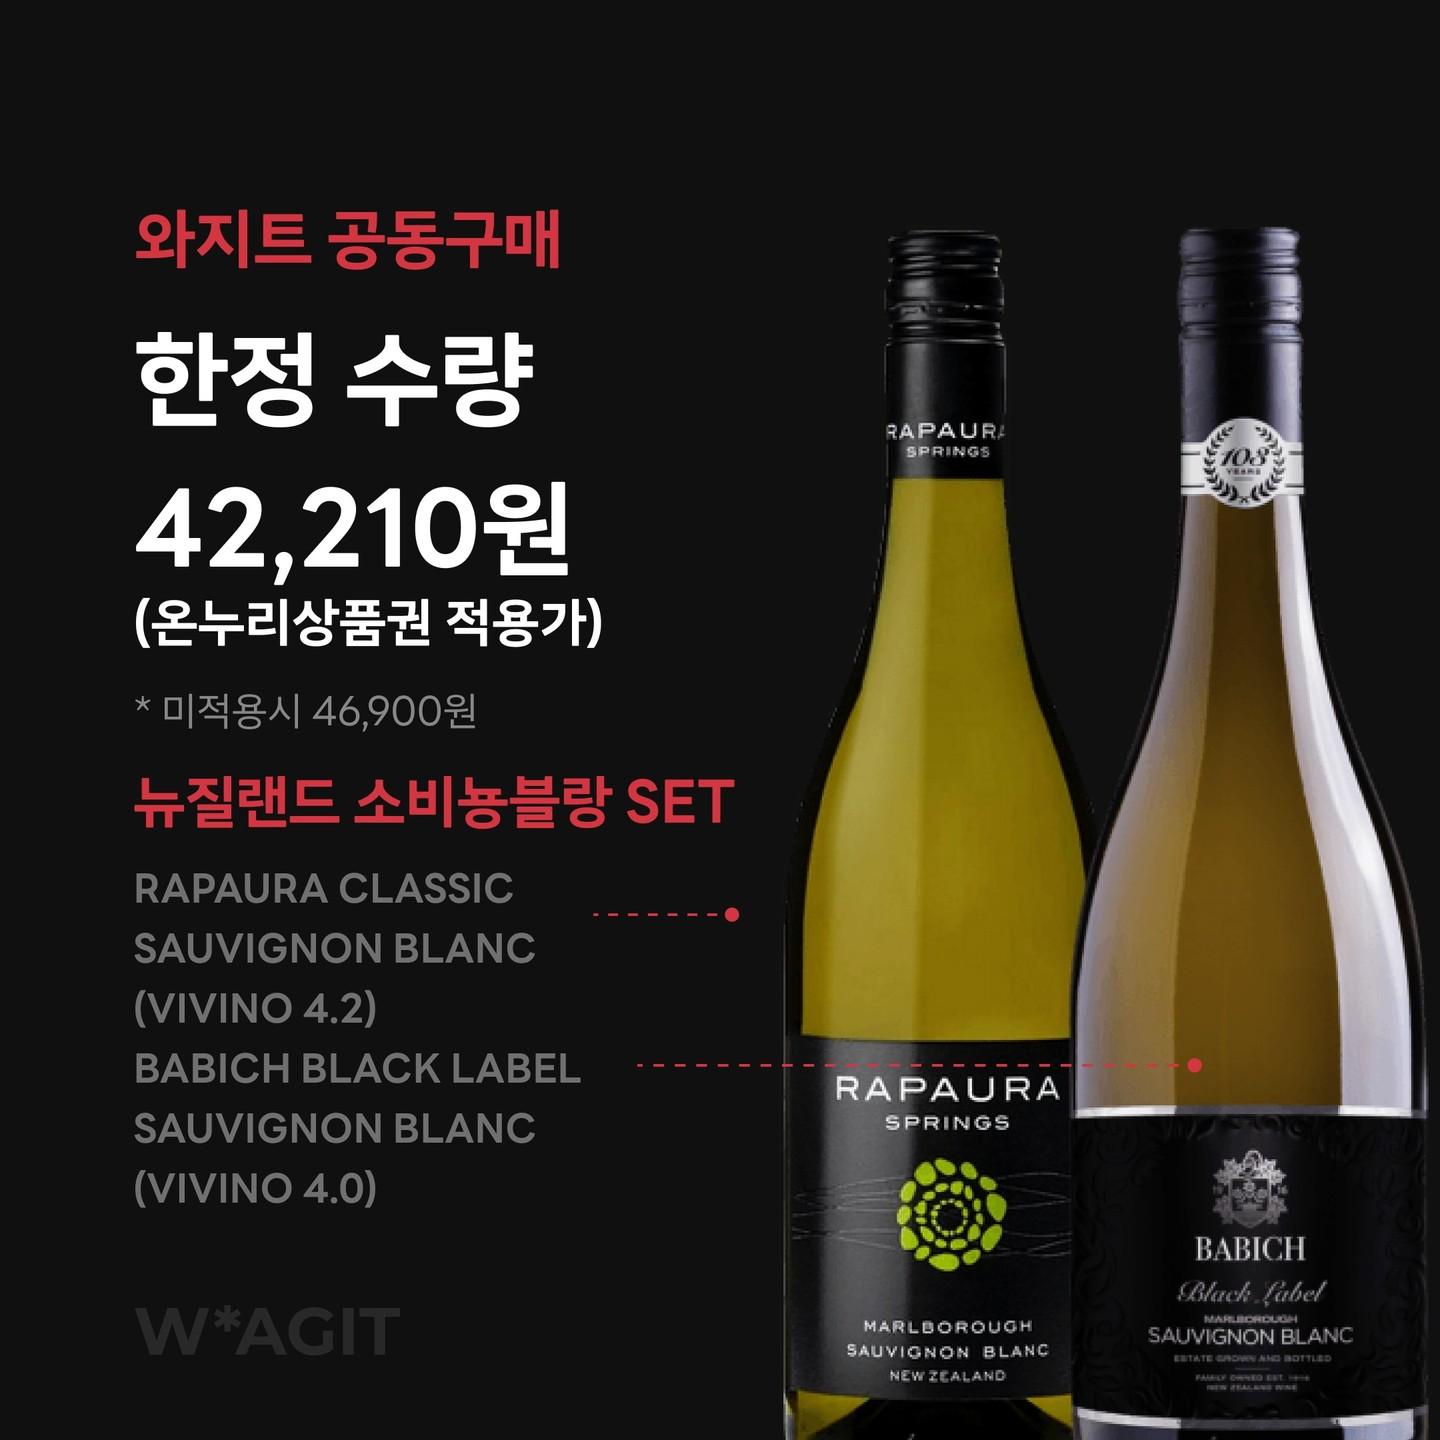alcohol: (1059, 212, 1433, 1440), (770, 219, 1098, 1440)
